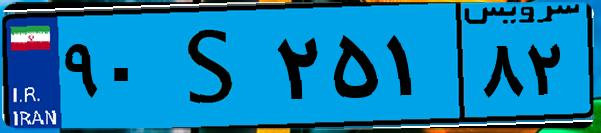0: (110, 28, 158, 98)
1: (385, 28, 445, 110)
2: (270, 28, 330, 110), (525, 38, 570, 115)
5: (330, 28, 385, 110)
8: (475, 38, 525, 113)
9: (57, 26, 110, 100)
S: (158, 12, 270, 120)
